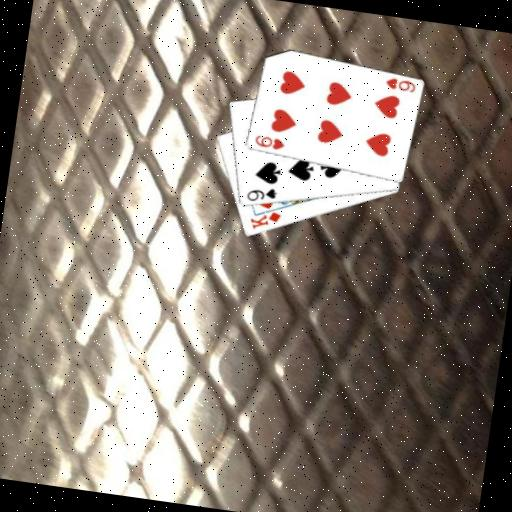6H: (251, 131, 287, 152), (382, 74, 418, 95)
9S: (243, 182, 279, 207)
KD: (246, 206, 283, 234)
